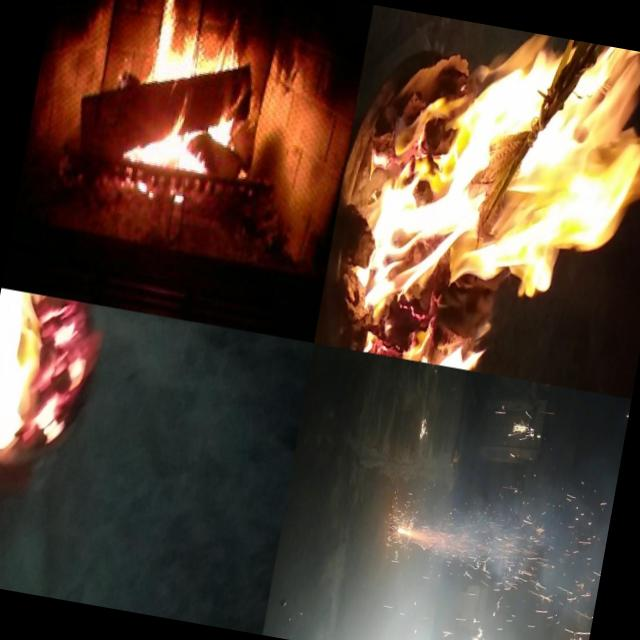fire: (339, 9, 640, 399), (117, 0, 267, 193), (0, 287, 99, 469)
